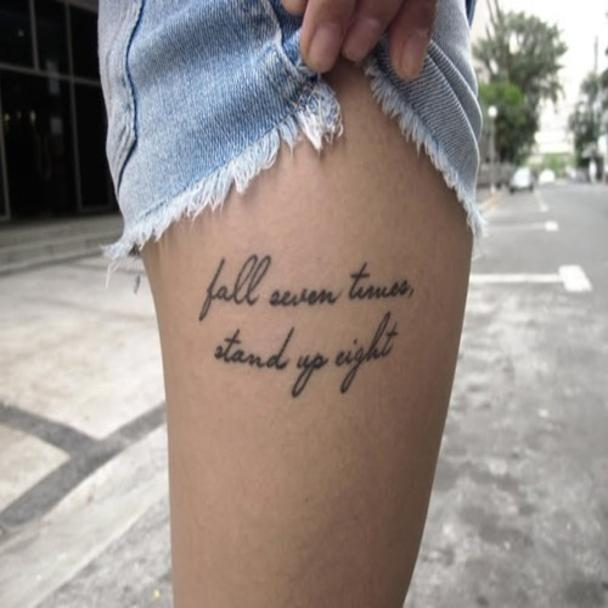tattoos: (197, 254, 415, 398)
